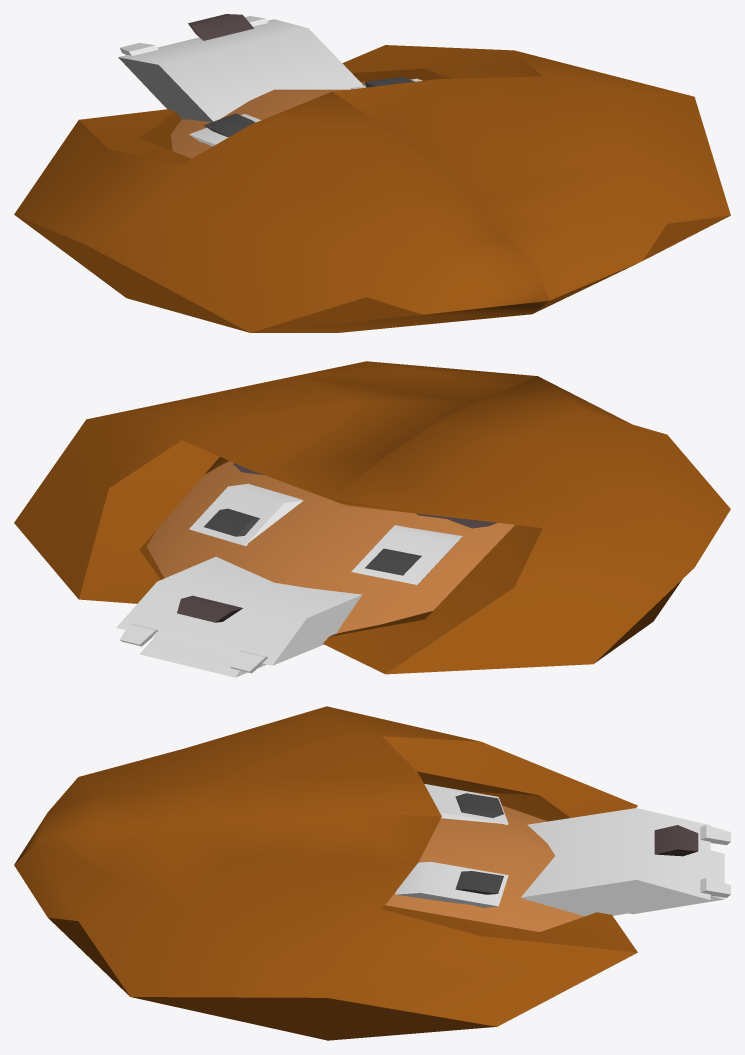
The model's file is Lion_Head_Fix.fbx.
3 views of the same model, one above another, from view 1: azimuth 30°, elevation 25°; view 2: azimuth 150°, elevation 25°; view 3: azimuth 270°, elevation 25° (orthographic).
Visible parts, largest first — view 1: Lion_Head; view 2: Lion_Head; view 3: Lion_Head.
Boxes of the visible parts, x1=… form: Lion_Head: x1=14, y1=14, x2=730, y2=332; Lion_Head: x1=14, y1=361, x2=730, y2=677; Lion_Head: x1=14, y1=706, x2=730, y2=1040.
Bounding box in the file's own units: 96.19 × 18.3 × 99.96.
